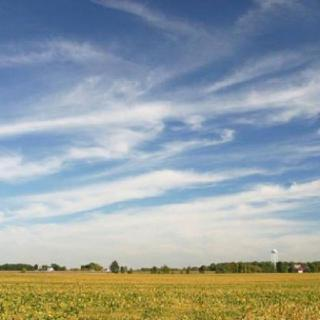Cirrostratus: (0, 0, 320, 248)
